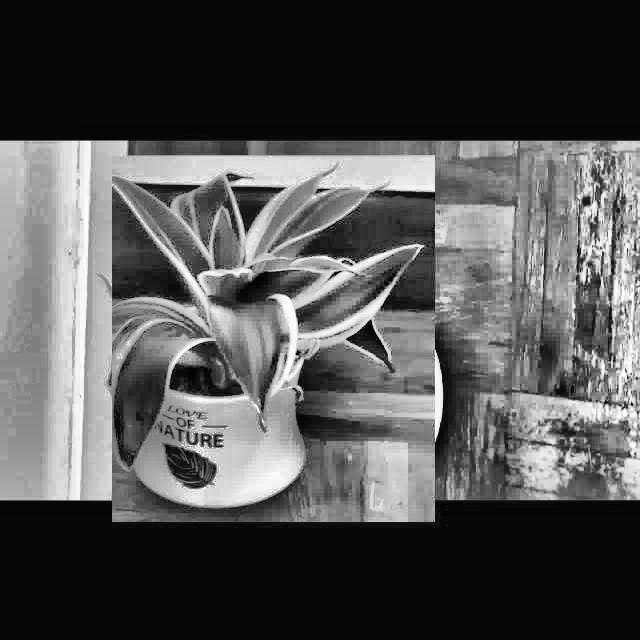plants: (101, 166, 446, 511)
